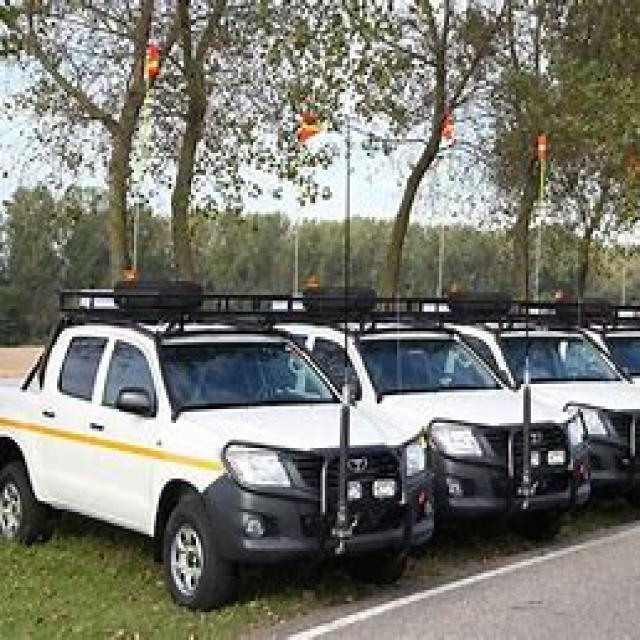light_vehicle: (7, 276, 422, 606)
